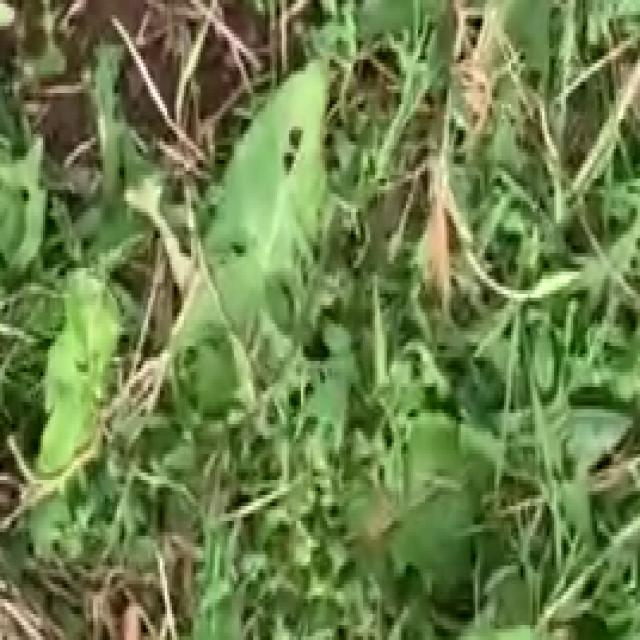organic waste: (134, 37, 416, 517)
